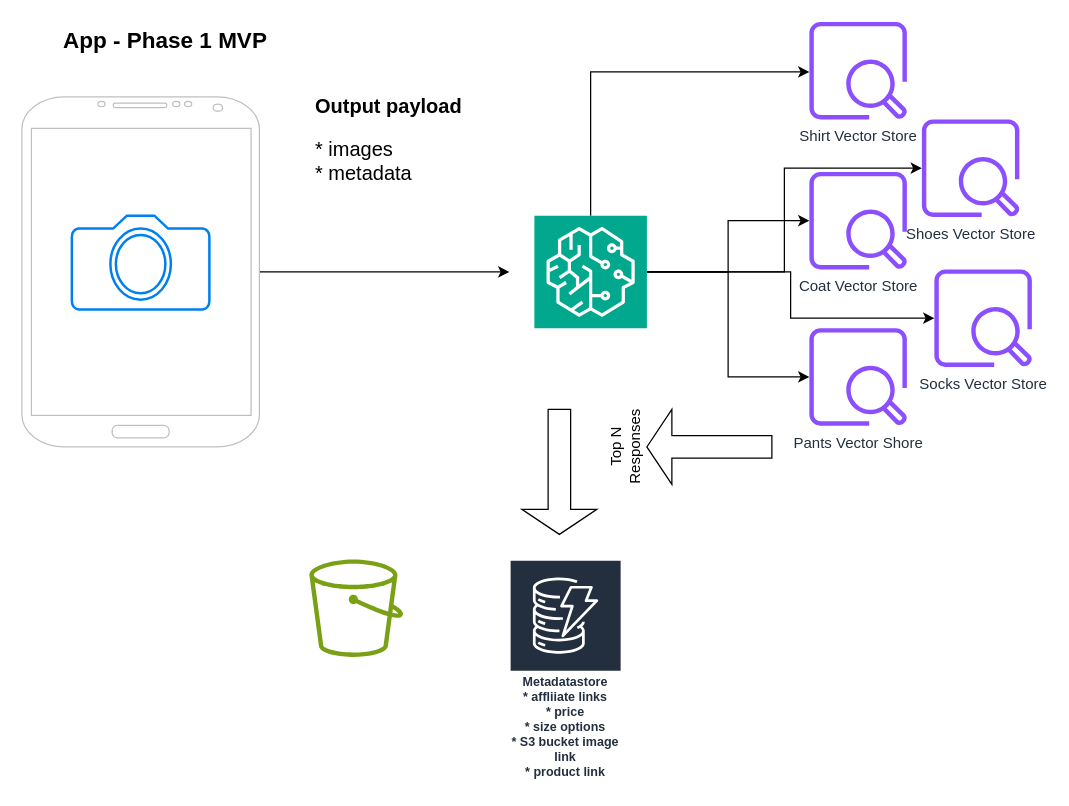
Image size: 1069x806. Some labels were removed from this diagram. Here are the shapes that lost their labels. From the top down, the centre of each, then its label:
the point at 590,271: (Sagemaker Serverless) Segmentation
the point at 355,607: S3Images
